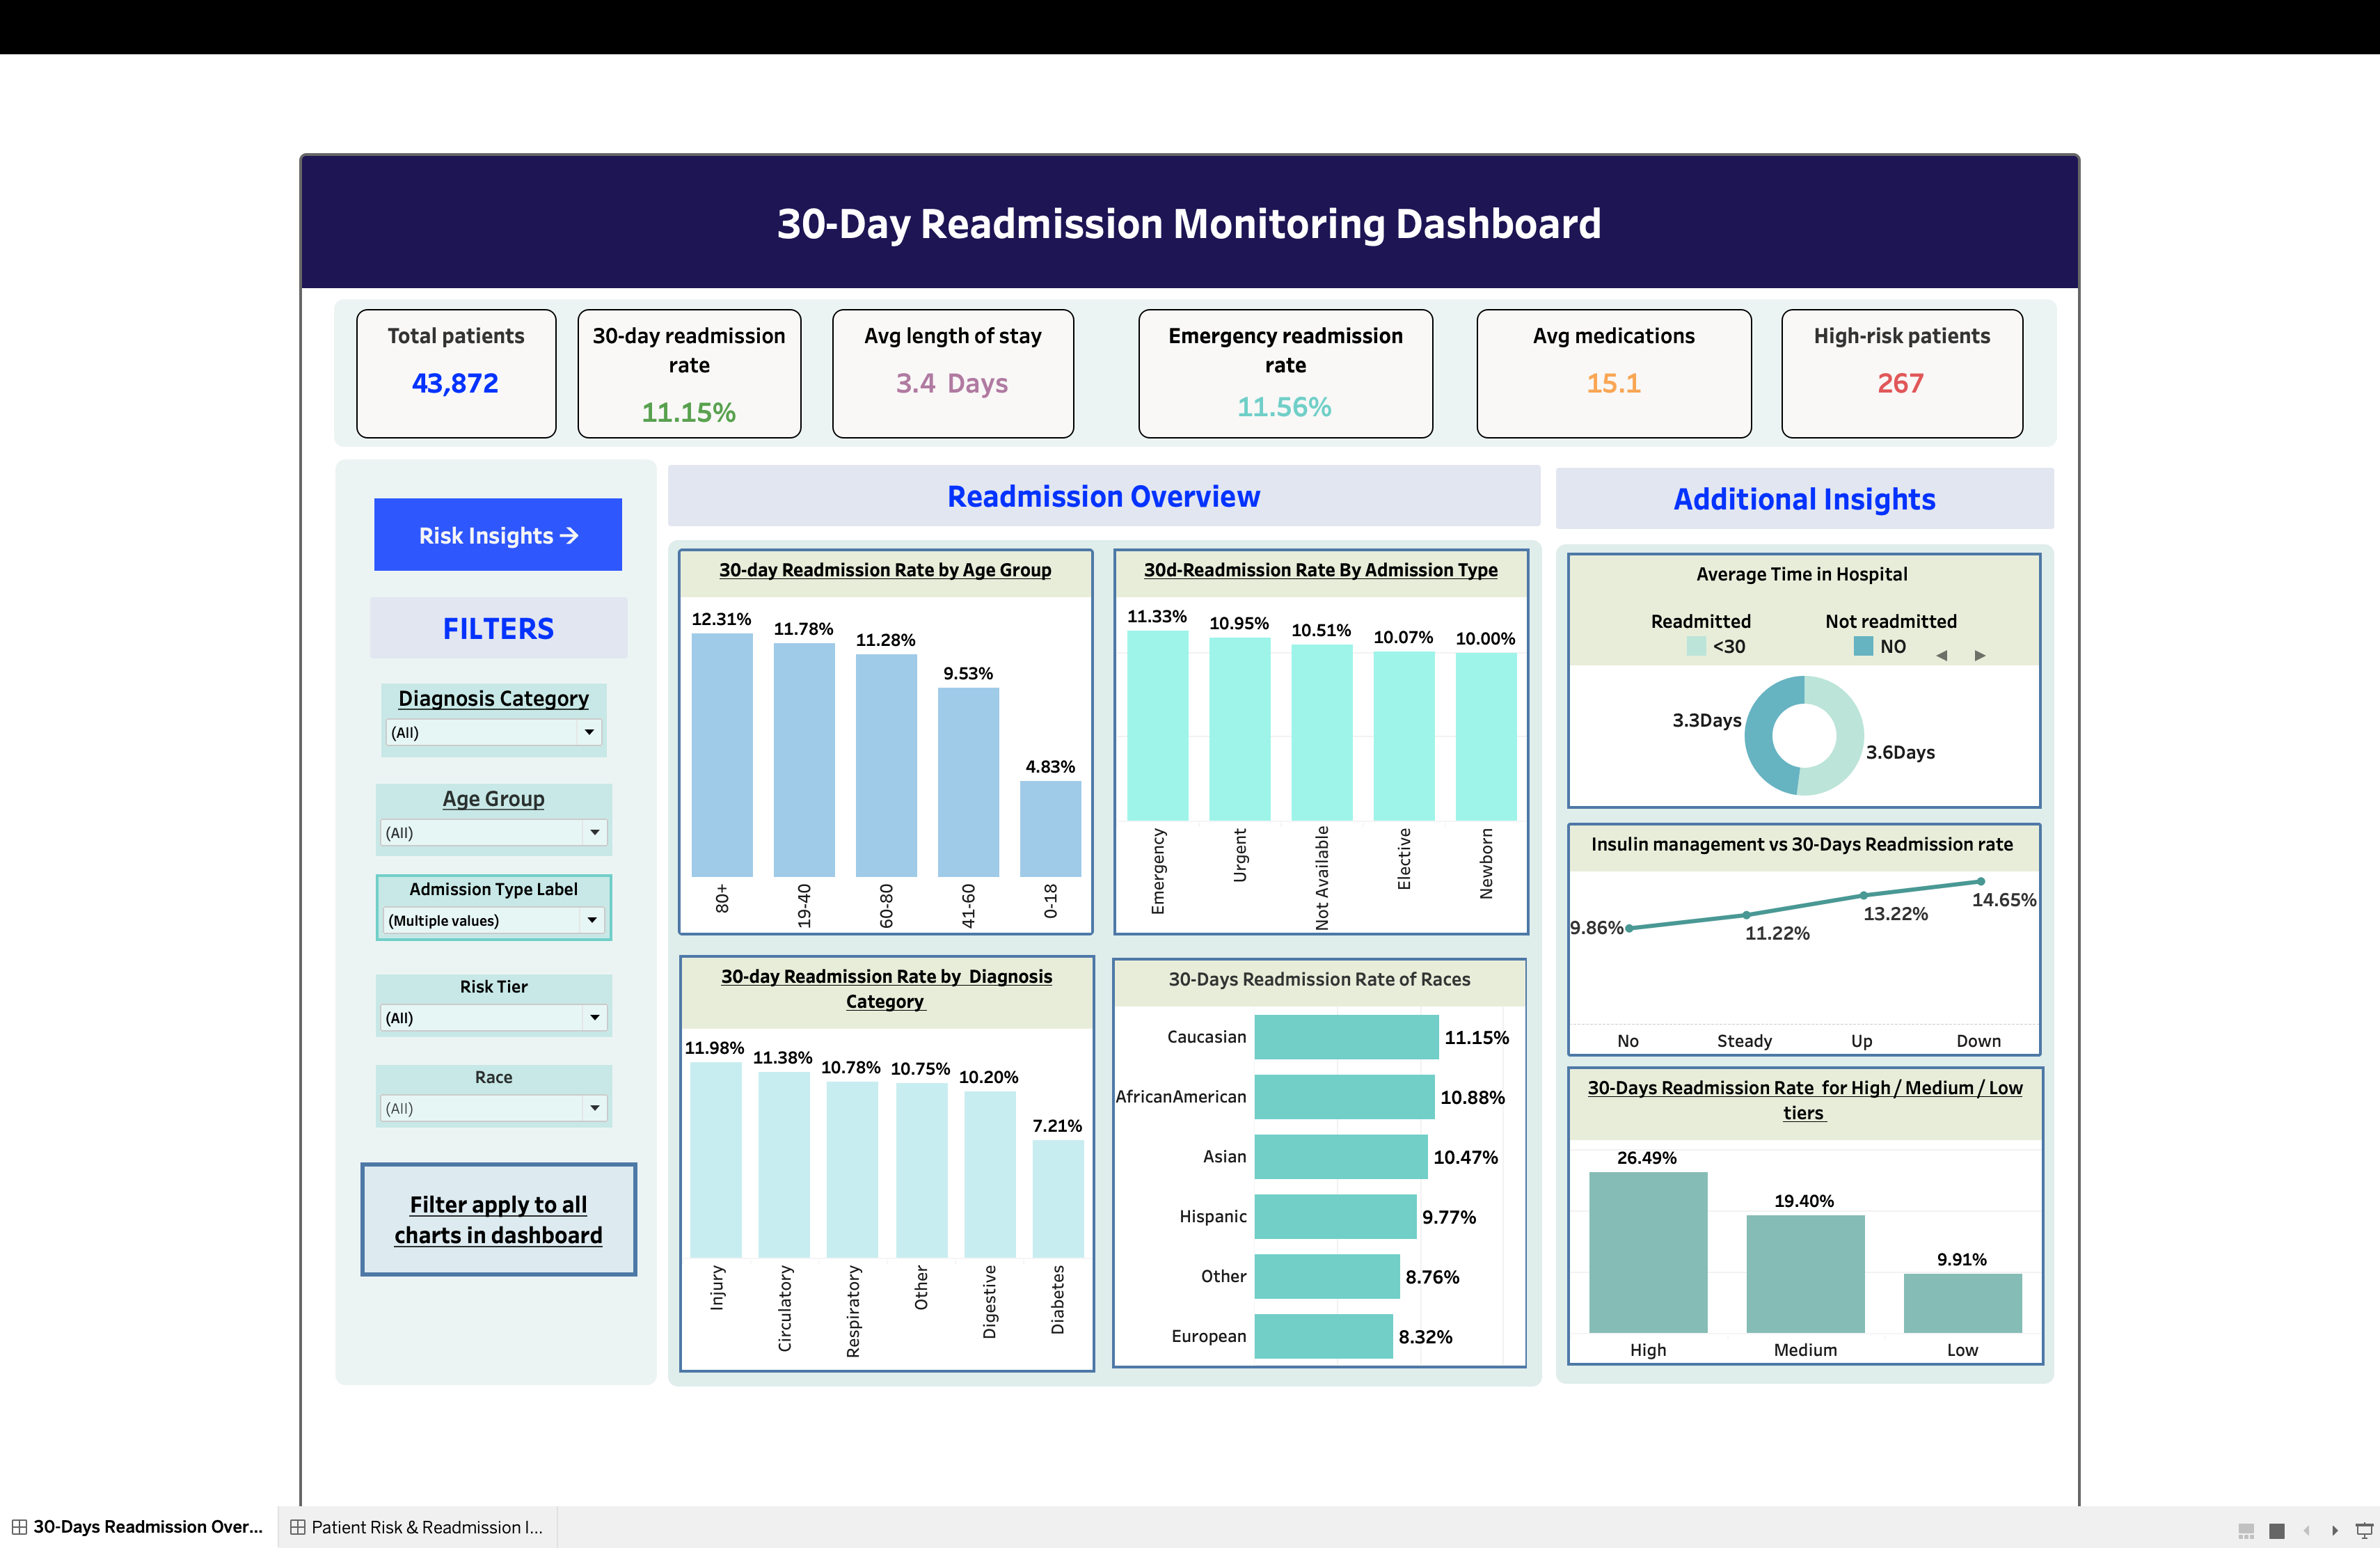

What the dashboard file says about the page in this screenshot:
{"tool":"tableau","page":{"name":"30-Days Readmission Overview","canvas":[1000,1000],"units":"permille","ordinal":0},"visuals":[{"type":"text","box":[0.8,2.2,998.4,105.6]},{"type":"blank","box":[19.5,116.7,967.2,117.8]},{"type":"worksheet","title":"Total patients","mark":"Automatic","box":[32,124.4,112.5,103.3]},{"type":"worksheet","title":"30-day readmission rate","mark":"Automatic","box":[156.2,124.4,125.8,103.3]},{"type":"worksheet","title":"Avg length of stay","mark":"Automatic","box":[299.2,124.4,135.9,103.3]},{"type":"worksheet","title":"Emergency readmission rate","mark":"Automatic","box":[471.1,124.4,165.6,103.3]},{"type":"worksheet","title":"Avg medications","mark":"Automatic","box":[660.9,124.4,154.7,103.3]},{"type":"worksheet","title":"High-risk patients","mark":"Automatic","box":[832,124.4,135.9,103.3]},{"type":"blank","box":[20.7,244.4,180.7,738.9]},{"type":"text","box":[207.3,248.9,490,48.9]},{"type":"text","box":[705.3,251.1,280,48.9]},{"type":"dashboard-object","box":[42.2,275.6,139.1,57.8]},{"type":"blank","box":[206.7,308.9,490.7,675.6]},{"type":"blank","box":[705.3,312.2,280,670]},{"type":"worksheet","title":"Age Group Readmition Rate","mark":"Automatic","rows":["readmitted_30d"],"cols":["age_group"],"box":[212.7,315.6,233.3,308.9]},{"type":"worksheet","title":" Admission Type Readmission Rate ","mark":"Automatic","rows":["readmitted_30d"],"cols":["admission_type_label"],"box":[457.3,315.6,233.3,308.9]},{"type":"worksheet","title":"Average Time in Hospita","mark":"Pie","cols":["Calculation_0053470535286785","Calculation_0053470535286785"],"box":[712,318.9,266.7,204.4]},{"type":"text","box":[39.8,354.4,144.5,48.9]},{"type":"legend","title":"Average Time in Hospita","param":"[federated.125o08b01rkmnm17g3ajr1cqojmo].[none:readmitted:nk]","box":[776.6,361.1,178.1,58.9]},{"type":"filter","title":"diagnosis_category readmission rate","param":"[federated.125o08b01rkmnm17g3ajr1cqojmo].[none:diagnosis_category:nk]","box":[43,418.9,132.8,67.8]},{"type":"filter","title":"Age Group Readmition Rate","param":"[federated.125o08b01rkmnm17g3ajr1cqojmo].[none:age_group:nk]","box":[43,503.3,132.8,57.8]},{"type":"worksheet","title":"Insulin Management","mark":"Line","rows":["readmitted_30d"],"cols":["insulin"],"box":[711.7,534.4,266.4,186.7]},{"type":"filter","title":" Admission Type Readmission Rate ","param":"[federated.125o08b01rkmnm17g3ajr1cqojmo].[none:admission_type_label:nk]","box":[43,575.6,132.8,53.3]},{"type":"worksheet","title":"diagnosis_category readmission rate","mark":"Automatic","rows":["readmitted_30d"],"cols":["diagnosis_category"],"box":[213.3,640,233.3,333.3]},{"type":"worksheet","title":"Race Readmission Rate","mark":"Automatic","rows":["race"],"cols":["readmitted_30d"],"box":[456,642.2,233.3,327.8]},{"type":"filter","title":" Admission Type Readmission Rate ","param":"[federated.125o08b01rkmnm17g3ajr1cqojmo].[none:risk_tier:nk]","box":[43,655.6,132.8,50]},{"type":"filter","title":"Race Readmission Rate","param":"[federated.125o08b01rkmnm17g3ajr1cqojmo].[none:race:nk]","box":[43,727.8,132.8,50]},{"type":"worksheet","title":"Risk Tiers Readmission Rate","mark":"Bar","rows":["readmitted_30d"],"cols":["risk_tier"],"box":[712,728.9,268,238.9]},{"type":"text","box":[34.4,805.6,155.5,91.1]}]}

Visuals, with their boxes on the dashboard's canvas, which has no fixed pixel size, in thousandths of its width and height (x1, y1, x2, y2). These are canvas units, not pixel positions in the 2380x1548 screenshot, which may show the page scaled, cropped or inside an application window:
text: (left=1, top=2, right=999, bottom=108)
blank: (left=20, top=117, right=987, bottom=234)
"Total patients" worksheet: (left=32, top=124, right=144, bottom=228)
"30-day readmission rate" worksheet: (left=156, top=124, right=282, bottom=228)
"Avg length of stay" worksheet: (left=299, top=124, right=435, bottom=228)
"Emergency readmission rate" worksheet: (left=471, top=124, right=637, bottom=228)
"Avg medications" worksheet: (left=661, top=124, right=816, bottom=228)
"High-risk patients" worksheet: (left=832, top=124, right=968, bottom=228)
blank: (left=21, top=244, right=201, bottom=983)
text: (left=207, top=249, right=697, bottom=298)
text: (left=705, top=251, right=985, bottom=300)
dashboard-object: (left=42, top=276, right=181, bottom=333)
blank: (left=207, top=309, right=697, bottom=984)
blank: (left=705, top=312, right=985, bottom=982)
"Age Group Readmition Rate" worksheet: (left=213, top=316, right=446, bottom=624)
" Admission Type Readmission Rate " worksheet: (left=457, top=316, right=691, bottom=624)
"Average Time in Hospita" worksheet (Pie marks): (left=712, top=319, right=979, bottom=523)
text: (left=40, top=354, right=184, bottom=403)
"Average Time in Hospita" legend: (left=777, top=361, right=955, bottom=420)
"diagnosis_category readmission rate" filter: (left=43, top=419, right=176, bottom=487)
"Age Group Readmition Rate" filter: (left=43, top=503, right=176, bottom=561)
"Insulin Management" worksheet (Line marks): (left=712, top=534, right=978, bottom=721)
" Admission Type Readmission Rate " filter: (left=43, top=576, right=176, bottom=629)
"diagnosis_category readmission rate" worksheet: (left=213, top=640, right=447, bottom=973)
"Race Readmission Rate" worksheet: (left=456, top=642, right=689, bottom=970)
" Admission Type Readmission Rate " filter: (left=43, top=656, right=176, bottom=706)
"Race Readmission Rate" filter: (left=43, top=728, right=176, bottom=778)
"Risk Tiers Readmission Rate" worksheet (Bar marks): (left=712, top=729, right=980, bottom=968)
text: (left=34, top=806, right=190, bottom=897)
